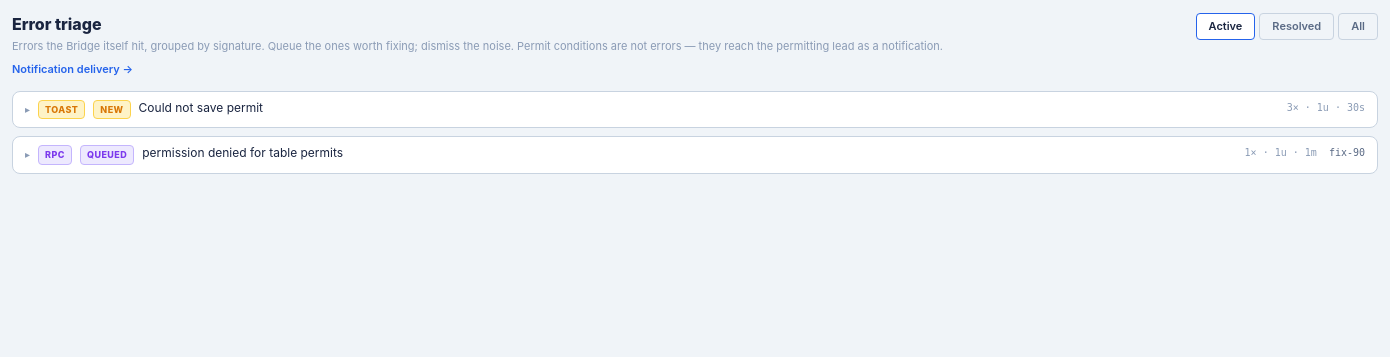
Test: <ErrorsPage /> (fix-87) › expanding a row reveals the sample context jsonb
This screenshot has width=1390, height=357.
Step 1. Click the button with test id "error-group-toggle-f-aaa" → (62, 109), box [13, 92, 1377, 127]
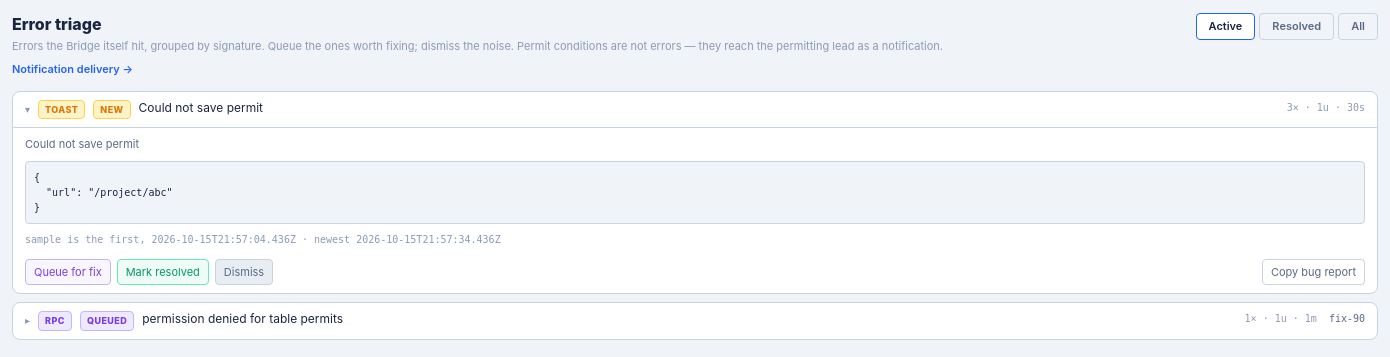
Result: the element with test id "error-group-detail-f-aaa" shows "/project/abc" at [34, 172, 172, 212]
